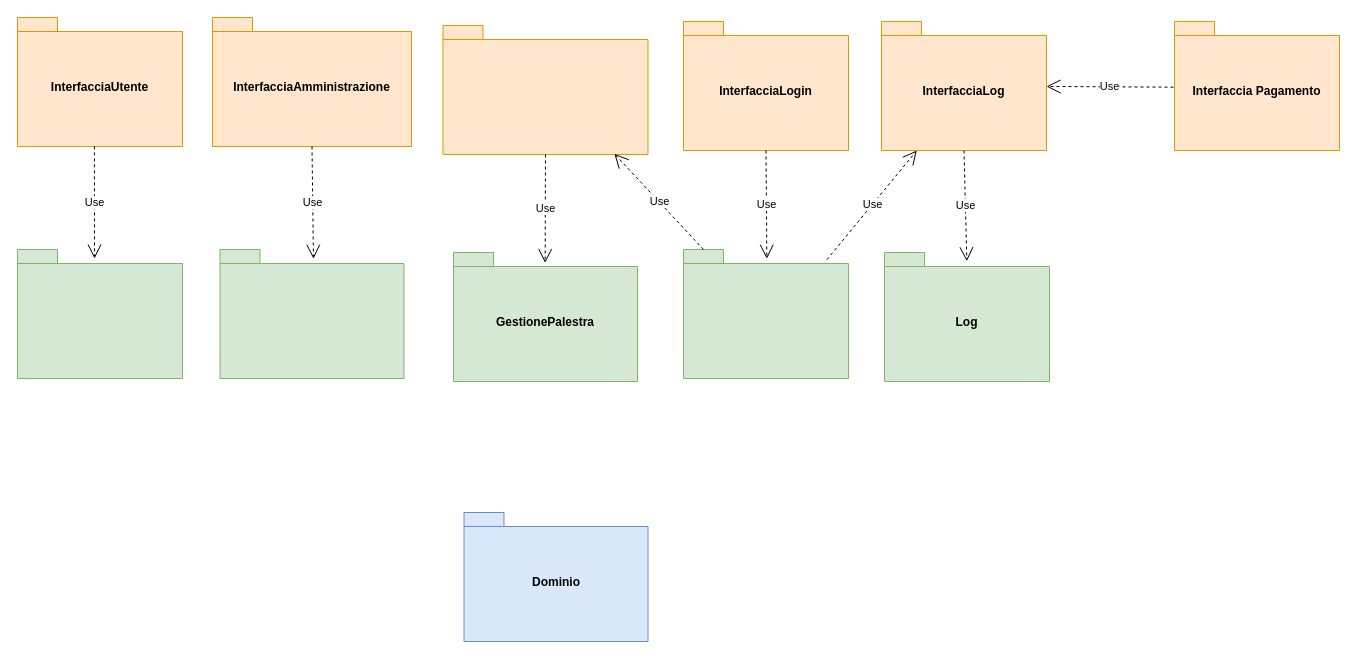
Image size: 1357x659. Some labels were removed from this diagram. Each missing label, with the centre of its shape:
"GestioneAmministrazione" belongs at pixel 311 313.
"GestioneUtente" belongs at pixel 99 313.
"InterfacciaGestionePalestra" belongs at pixel 545 89.
"Login" belongs at pixel 765 313.
